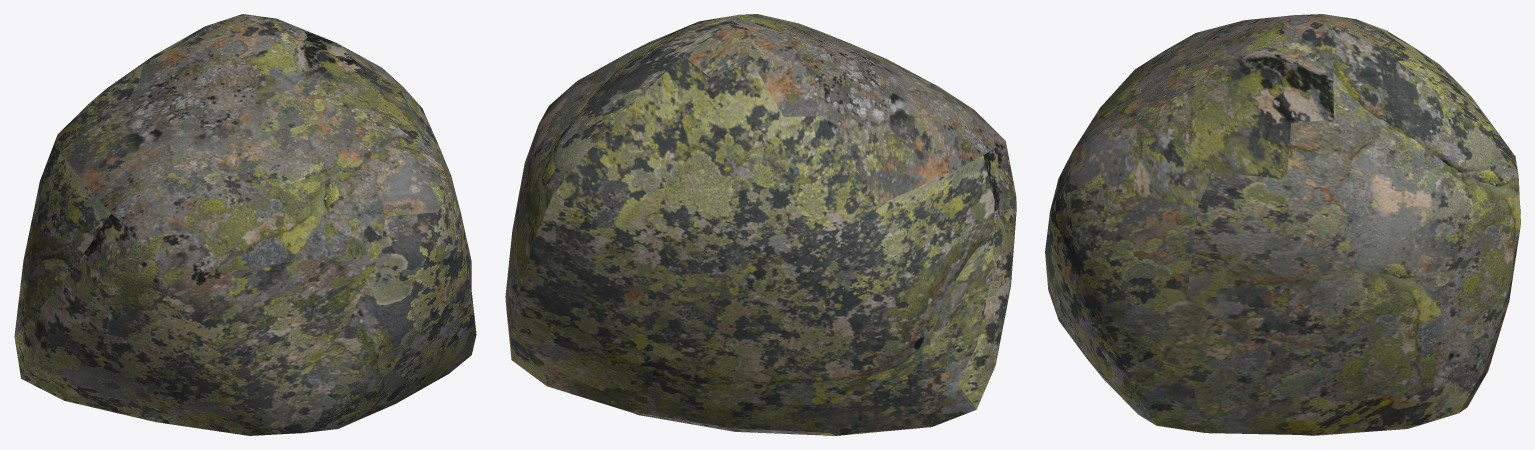
File: rocks_02.glb
3 views of the same model, side by side, from view 1: azimuth 30°, elevation 25°; view 2: azimuth 150°, elevation 25°; view 3: azimuth 270°, elevation 25° (orthographic). The views are drawn at different scales.
Visible parts, largest first — view 1: Rock2_Rock_0; view 2: Rock2_Rock_0; view 3: Rock2_Rock_0.
Boxes of the visible parts, x1=… form: Rock2_Rock_0: x1=14, y1=14, x2=476, y2=435; Rock2_Rock_0: x1=505, y1=14, x2=1016, y2=435; Rock2_Rock_0: x1=1045, y1=14, x2=1520, y2=435.
Size of the model in its own units: 0.5637 by 0.4606 by 0.5482.
1 material, 1 textured.
